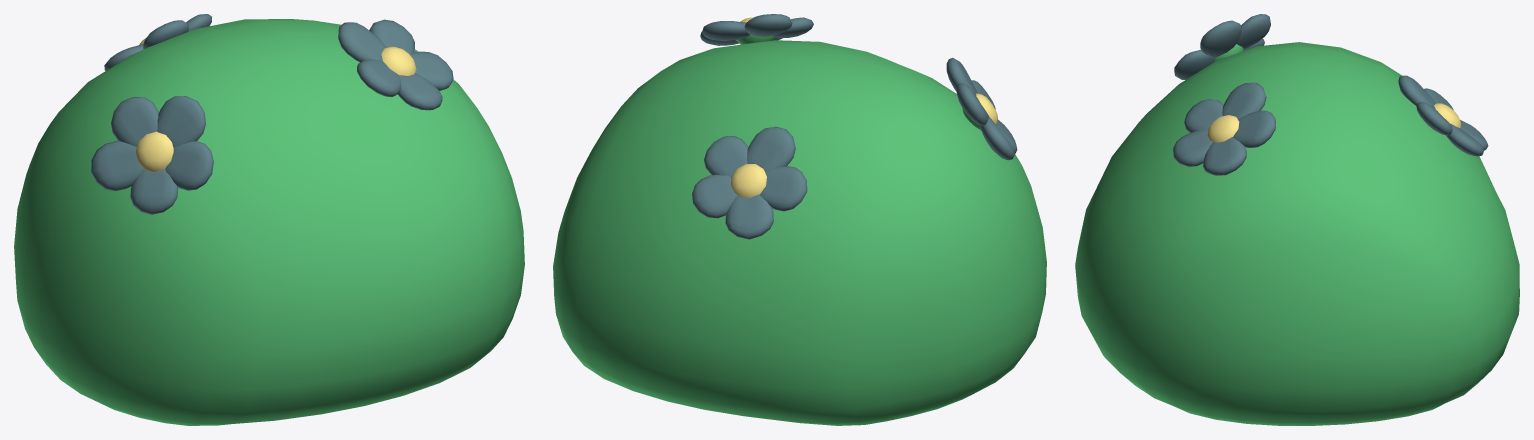
File: FlowerBush_A_0.fbx
3 renders of one model, left to right at view 1: azimuth 30°, elevation 25°; view 2: azimuth 150°, elevation 25°; view 3: azimuth 270°, elevation 25°, orthographic. The views are drawn at different scales.
Visible parts, largest first — view 1: FlowerBush_A_0_LOD0; view 2: FlowerBush_A_0_LOD0; view 3: FlowerBush_A_0_LOD0.
Part boxes in pixels (left/top/right/bottom): FlowerBush_A_0_LOD0: left=14, top=14, right=524, bottom=425; FlowerBush_A_0_LOD0: left=553, top=14, right=1046, bottom=425; FlowerBush_A_0_LOD0: left=1075, top=14, right=1519, bottom=425.
Size of what is drawn, in the model's own units: 578 by 412 by 559.
